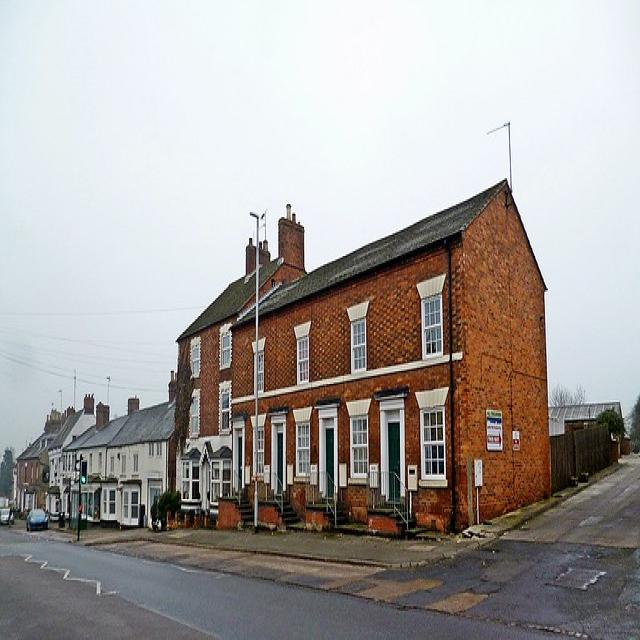Normal_building: (169, 174, 551, 542), (60, 398, 174, 530)
